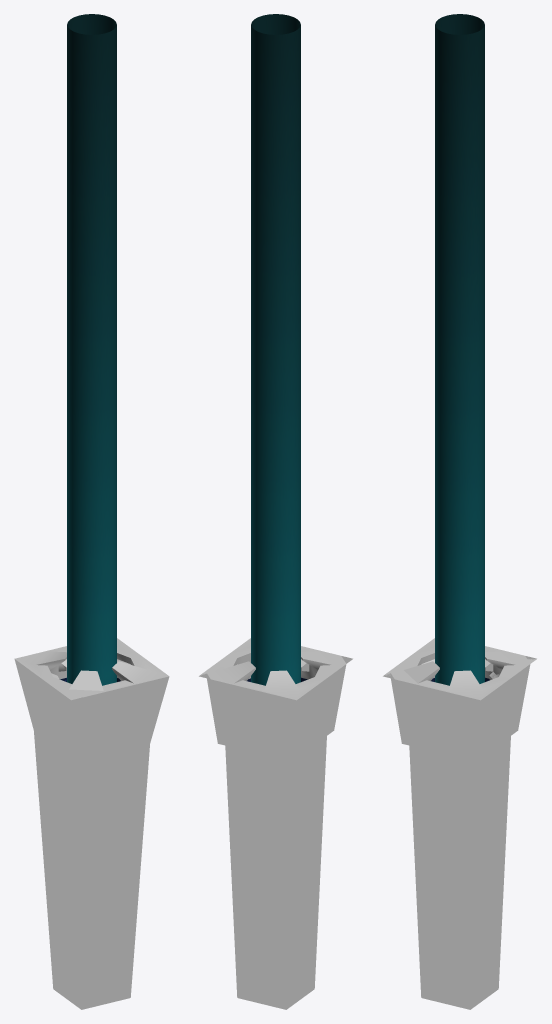
The model's file is desmlh02.FBX.
The picture shows the model from 3 angles, left to right: view 1: azimuth 30°, elevation 25°; view 2: azimuth 150°, elevation 25°; view 3: azimuth 330°, elevation 25°; orthographic projection.
Visible parts, largest first — view 1: shaft__g, terrain__h, desmlh01; view 2: shaft__g, terrain__h, desmlh01; view 3: shaft__g, terrain__h, desmlh01.
Part boxes in pixels (x1,y1,x2,y2): shaft__g: (67, 14, 116, 685); terrain__h: (14, 659, 169, 1009); desmlh01: (15, 638, 168, 700); shaft__g: (251, 14, 300, 685); terrain__h: (199, 656, 352, 1009); desmlh01: (199, 638, 345, 700); shaft__g: (435, 14, 484, 685); terrain__h: (383, 656, 536, 1009); desmlh01: (383, 638, 536, 700).
Size of what is drawn, in the model's own units: 64 by 603 by 64.
